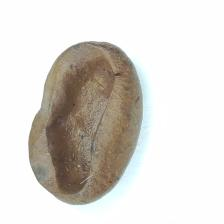NG: (41, 46, 115, 196)
